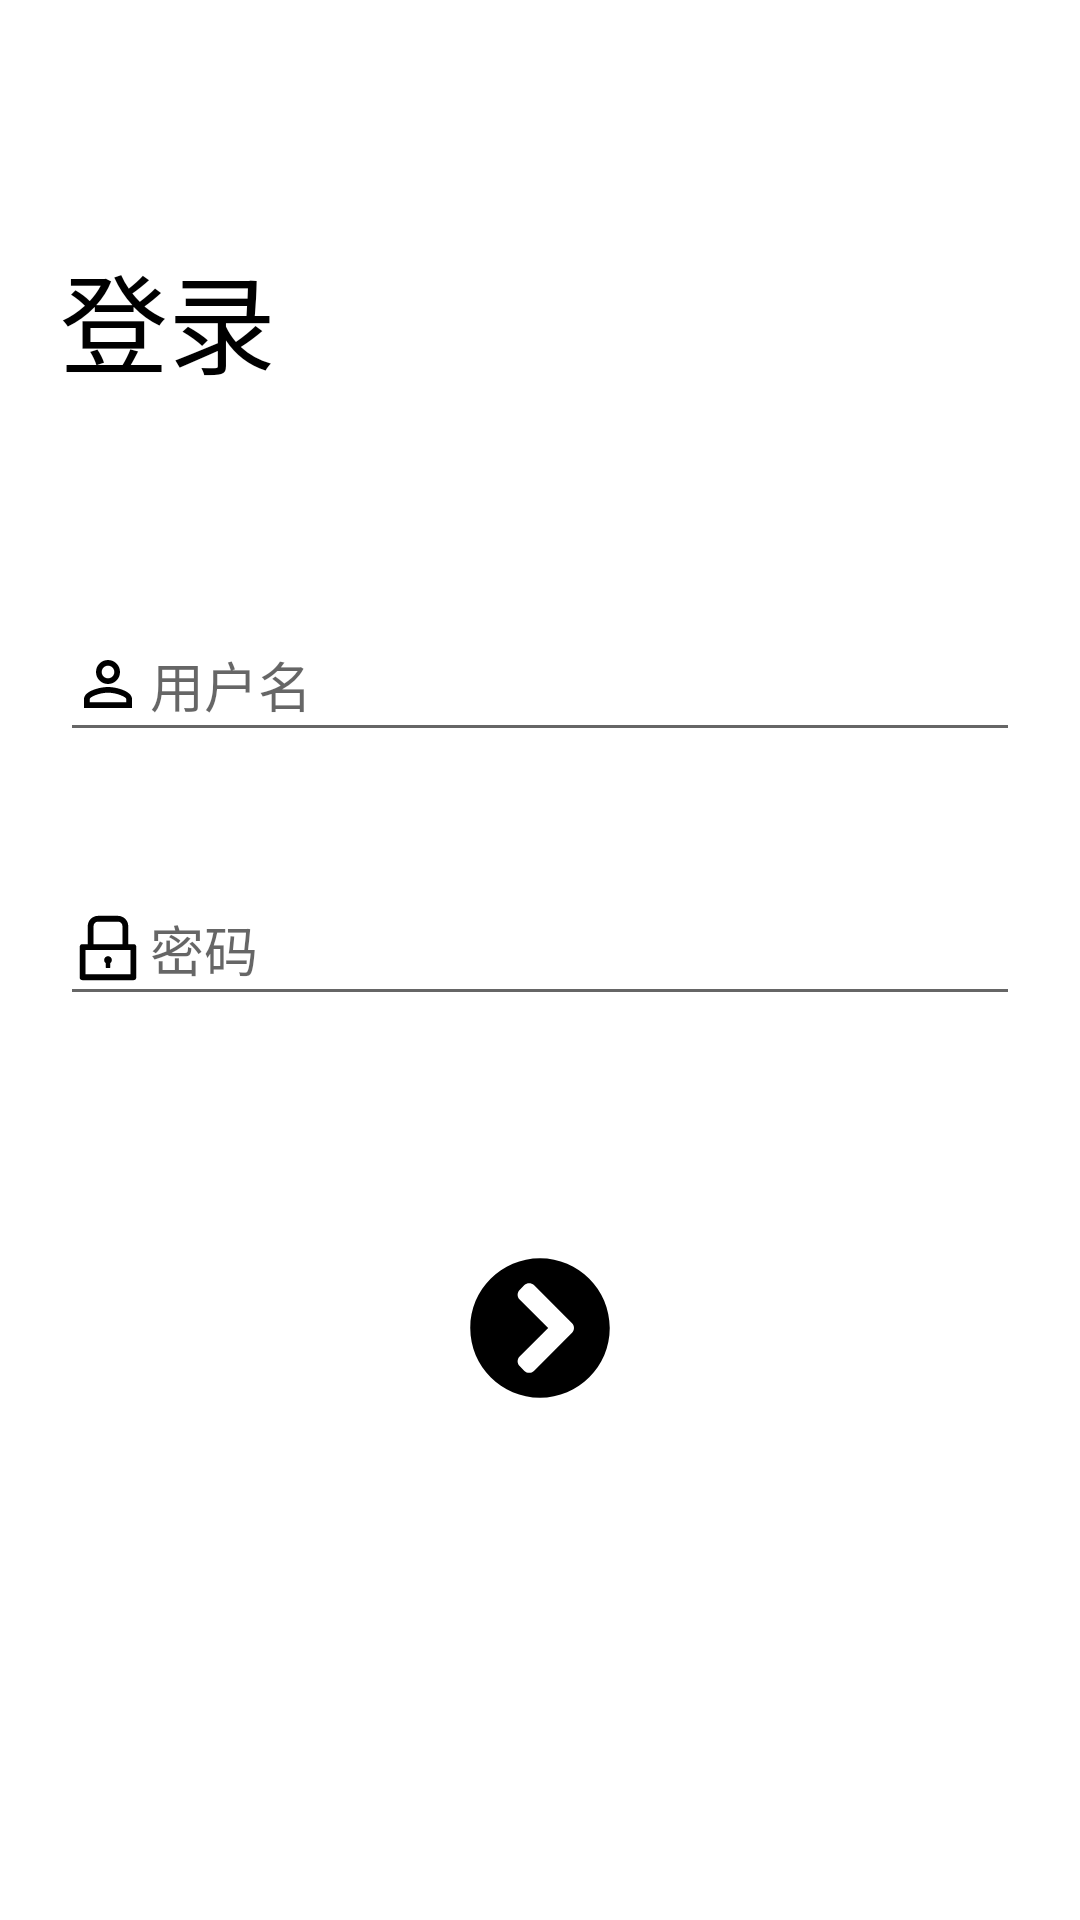

Icon click points for this 1080px x 1920px phone screenshot, format (x,y):
rightarrow: (540,1328)
